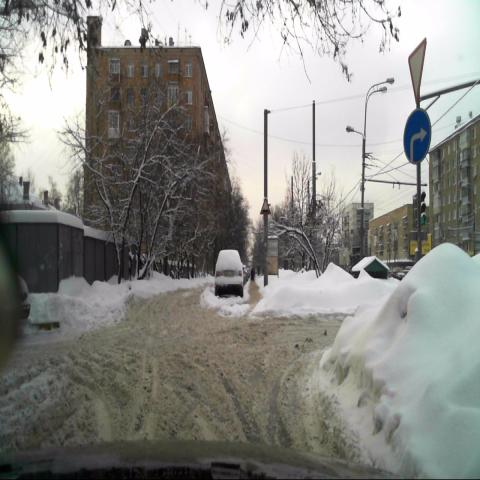2_4: (408, 37, 426, 106)
4_1_2: (404, 108, 432, 164)
